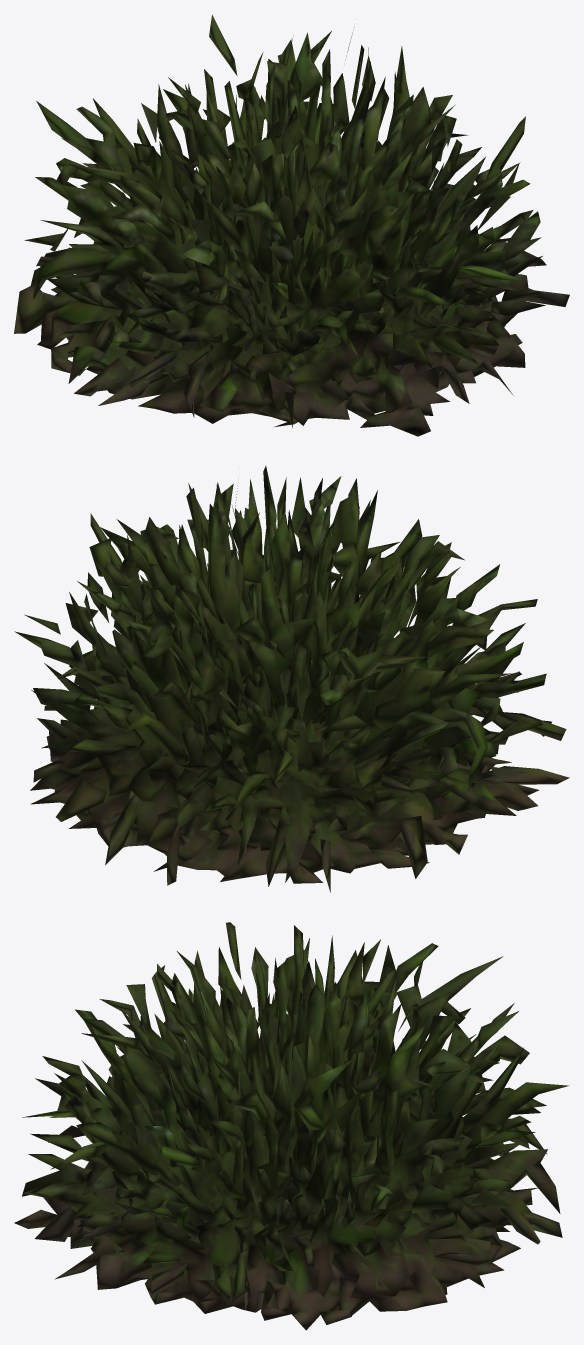
The model's file is pastoM 1.fbx.
3 views of the same model, one above another, from view 1: azimuth 30°, elevation 25°; view 2: azimuth 150°, elevation 25°; view 3: azimuth 270°, elevation 25° (orthographic).
Visible parts, largest first — view 1: Mesh1.0; view 2: Mesh1.0; view 3: Mesh1.0.
Part boxes in pixels (<box>): Mesh1.0: <box>14,14,569,436</box>; Mesh1.0: <box>14,466,569,892</box>; Mesh1.0: <box>14,922,569,1330</box>.
Bounding box in the file's own units: 198 × 109 × 196.
Materials: 1 (1 with a texture image).
